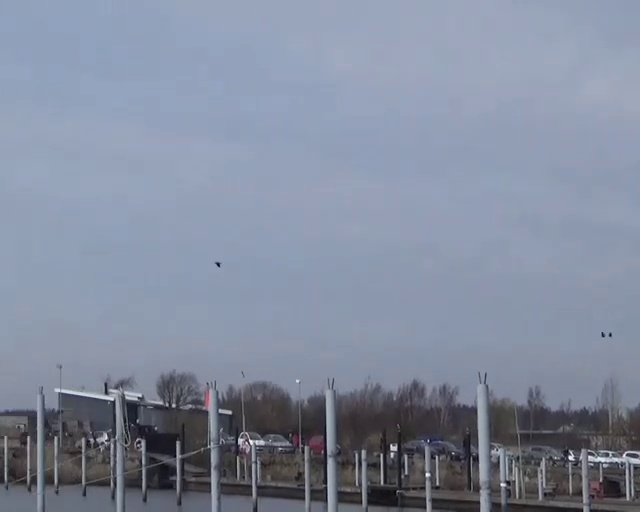BIRD: (601, 331, 612, 338)
